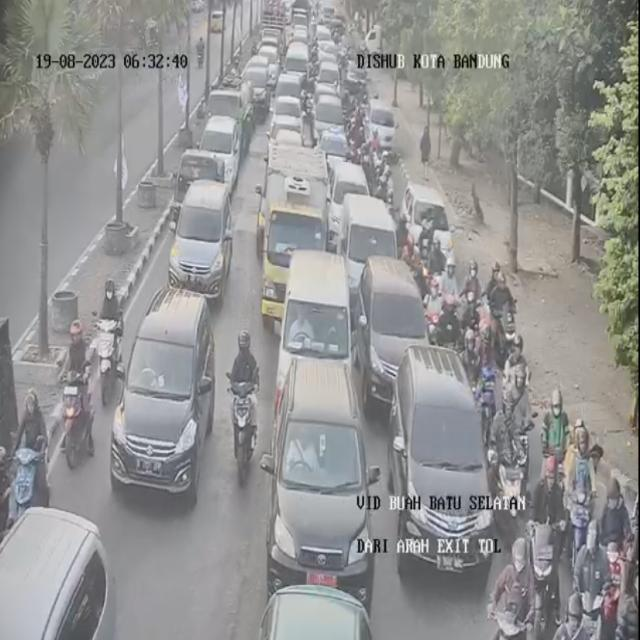cars: (264, 356, 378, 612), (390, 337, 490, 579), (112, 283, 217, 497), (0, 506, 113, 637), (280, 249, 357, 406), (355, 254, 426, 408), (236, 580, 375, 638), (167, 174, 230, 300), (341, 192, 399, 310), (180, 118, 242, 222), (407, 182, 456, 274), (326, 161, 372, 242), (204, 84, 247, 146), (313, 89, 342, 160), (324, 124, 354, 179), (367, 97, 395, 155), (268, 113, 306, 155), (247, 61, 273, 117), (277, 71, 305, 117), (288, 44, 312, 85), (318, 58, 339, 98), (257, 44, 278, 76), (318, 41, 336, 68)
motorcycle: (589, 474, 630, 631), (529, 464, 571, 616), (494, 378, 534, 534), (58, 321, 97, 461), (495, 522, 541, 640), (228, 328, 264, 476), (569, 414, 602, 566), (17, 386, 55, 508), (571, 518, 607, 640), (89, 276, 123, 394), (544, 388, 568, 487), (488, 263, 518, 339), (501, 330, 526, 405), (461, 256, 484, 318), (428, 276, 447, 331), (358, 87, 372, 125)
truck: (257, 138, 327, 315)
